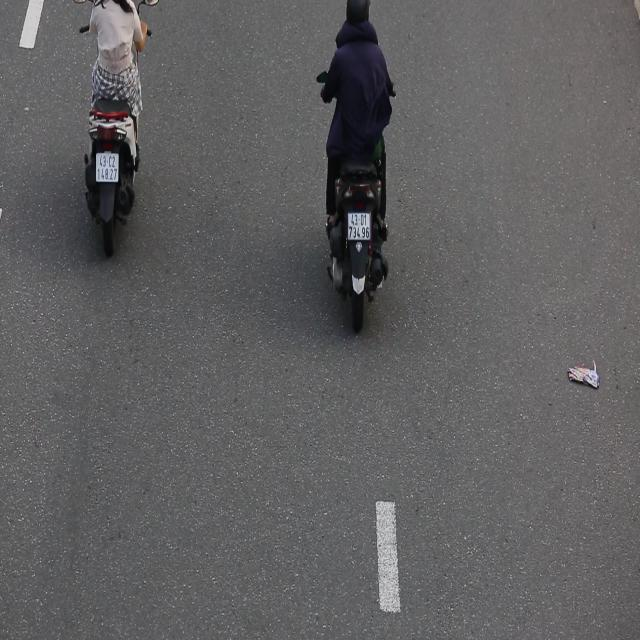motorbike: (313, 0, 415, 360)
